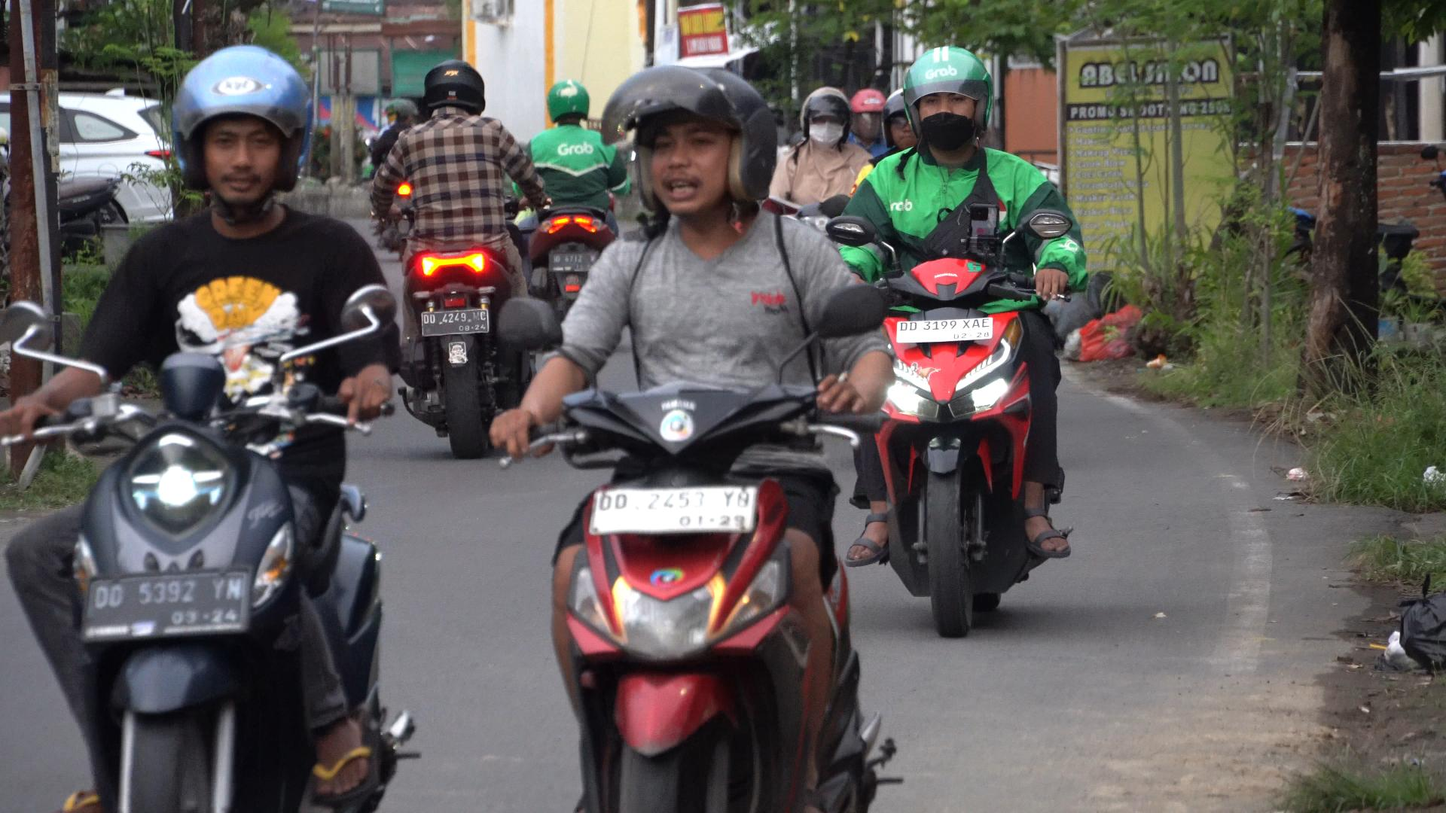number-plate: (83, 578, 252, 640), (581, 482, 760, 540), (890, 318, 995, 343)
